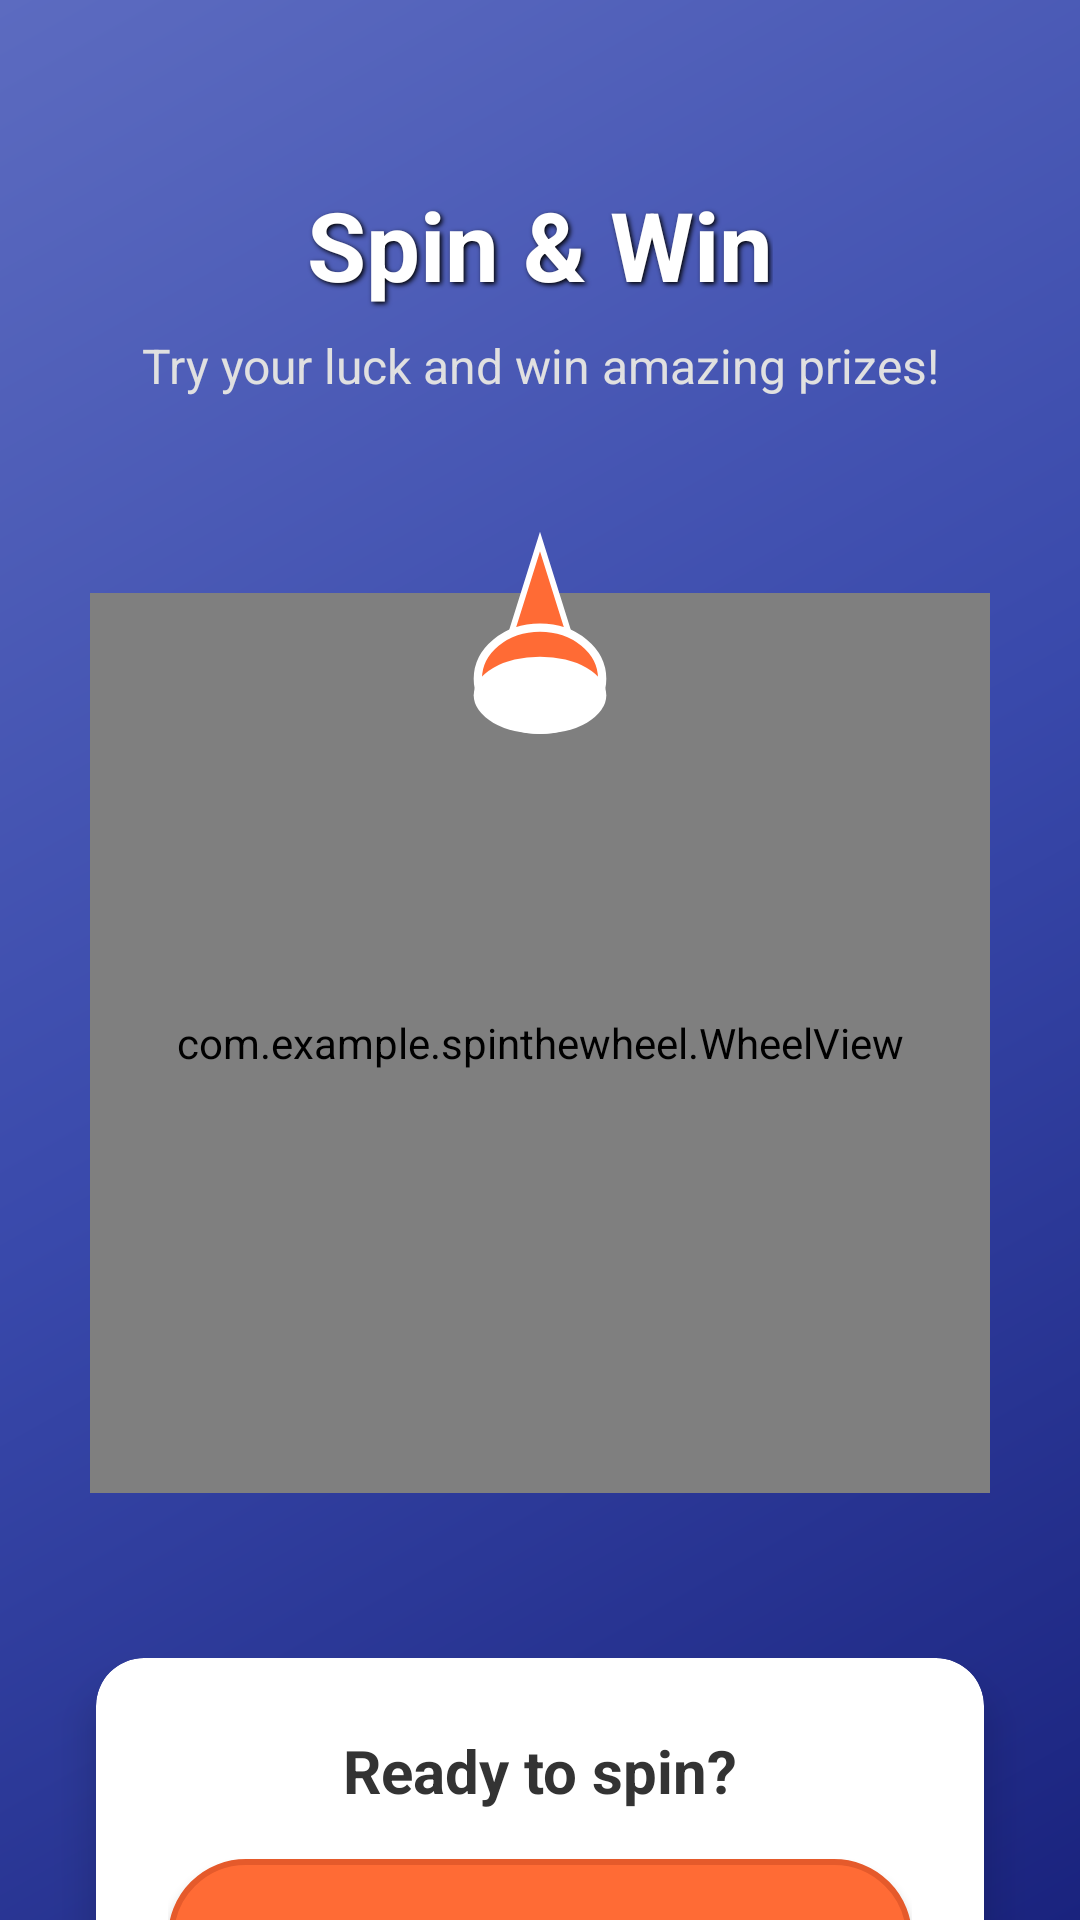

Screen size 1080px x 1920px. Icon name, then its center in pixels as [x,y]:
Wheel Pointer: [540,629]
